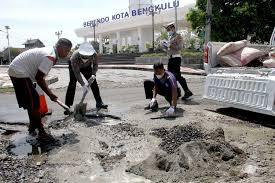Pothole: (2, 111, 125, 158), (50, 113, 125, 134)
